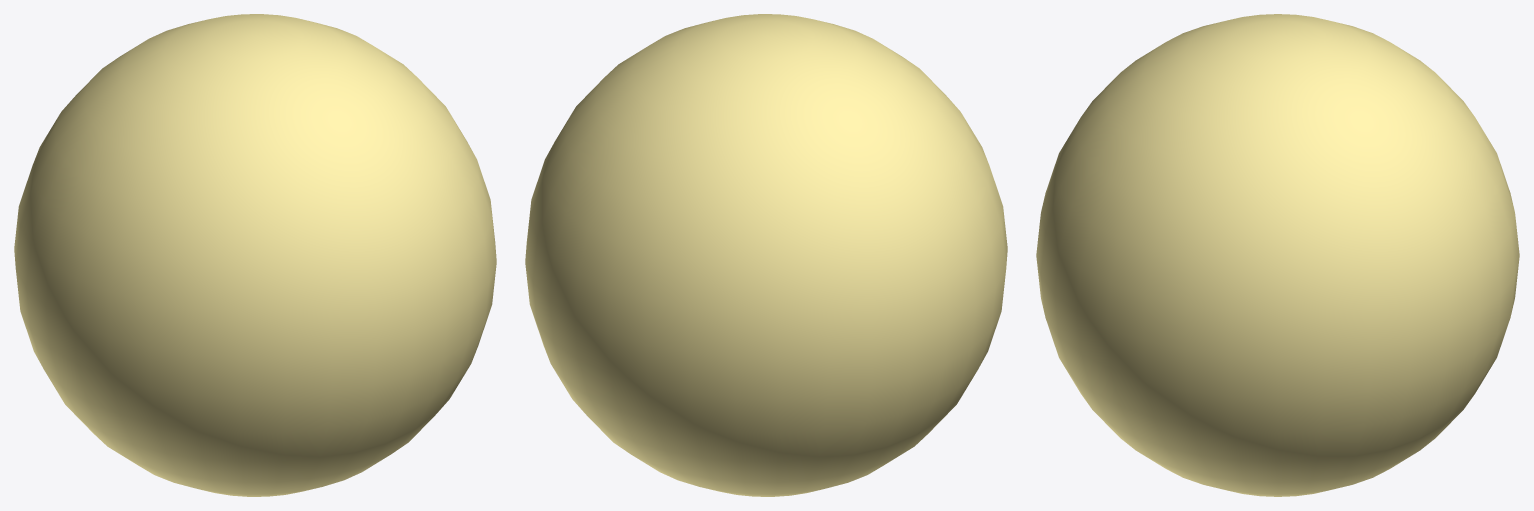
Rendered from orbe laser.fbx.
3 views of the same model, side by side, from view 1: azimuth 30°, elevation 25°; view 2: azimuth 150°, elevation 25°; view 3: azimuth 270°, elevation 25° (orthographic).
Visible parts, largest first — view 1: orbe capa 1; view 2: orbe capa 1; view 3: orbe capa 1.
Part boxes in pixels (box(x1,y1,x2,y2)): orbe capa 1: box(14, 14, 496, 496); orbe capa 1: box(525, 14, 1007, 496); orbe capa 1: box(1036, 14, 1519, 496).
Bounding box in the file's own units: 200 × 200 × 200.
